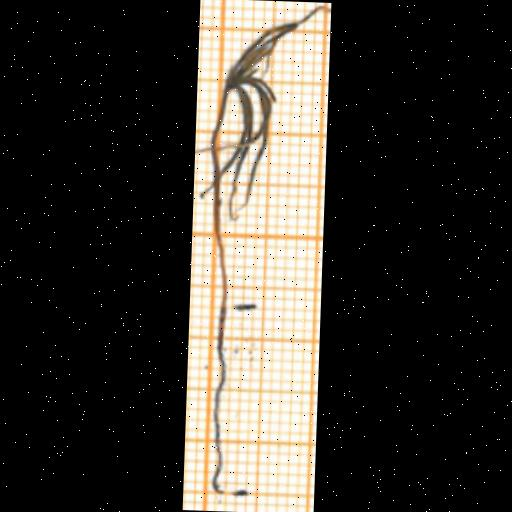flowerPinus: (222, 7, 325, 220)
rootPinus: (211, 296, 226, 491)
stemPinus: (212, 92, 227, 314)
